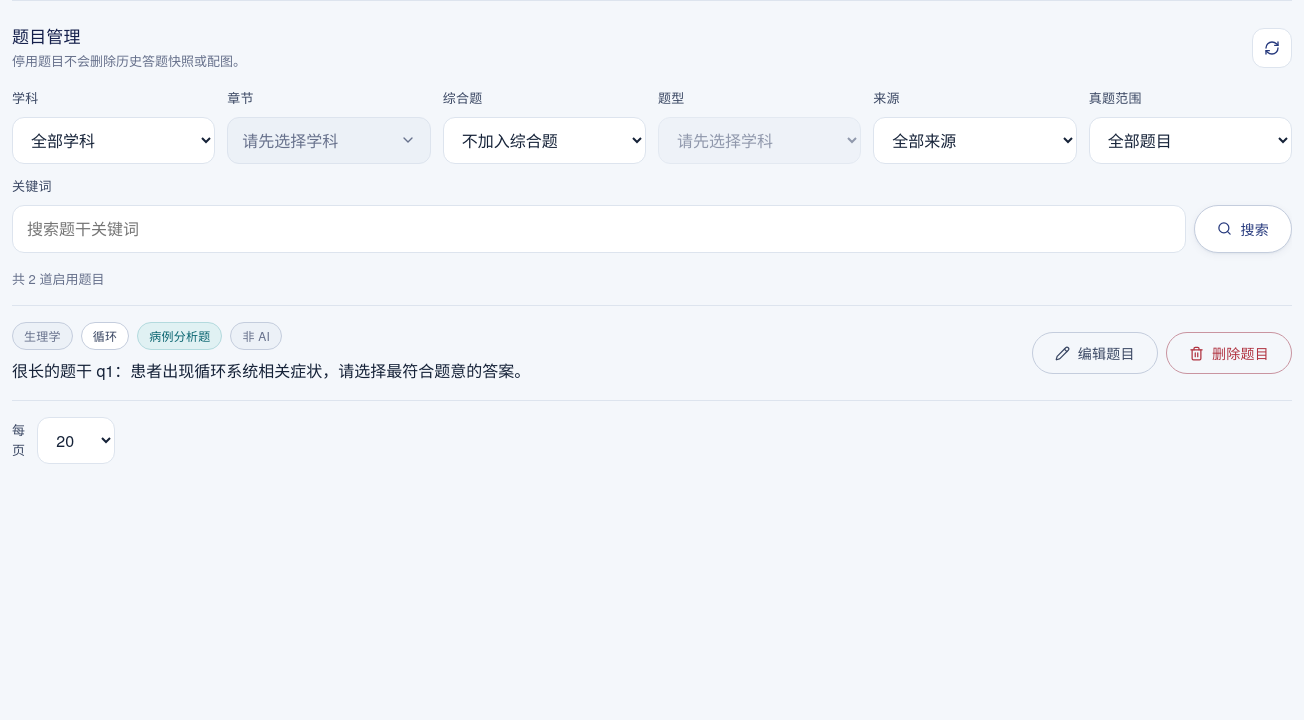
Test: AdminQuizManage › keeps the row and shows a retryable error: 网络连接失败
The width and height of the screenshot is (1304, 720).
Click the button with class "delete-button" at (1229, 353), box left=1166, top=332, right=1292, bottom=374
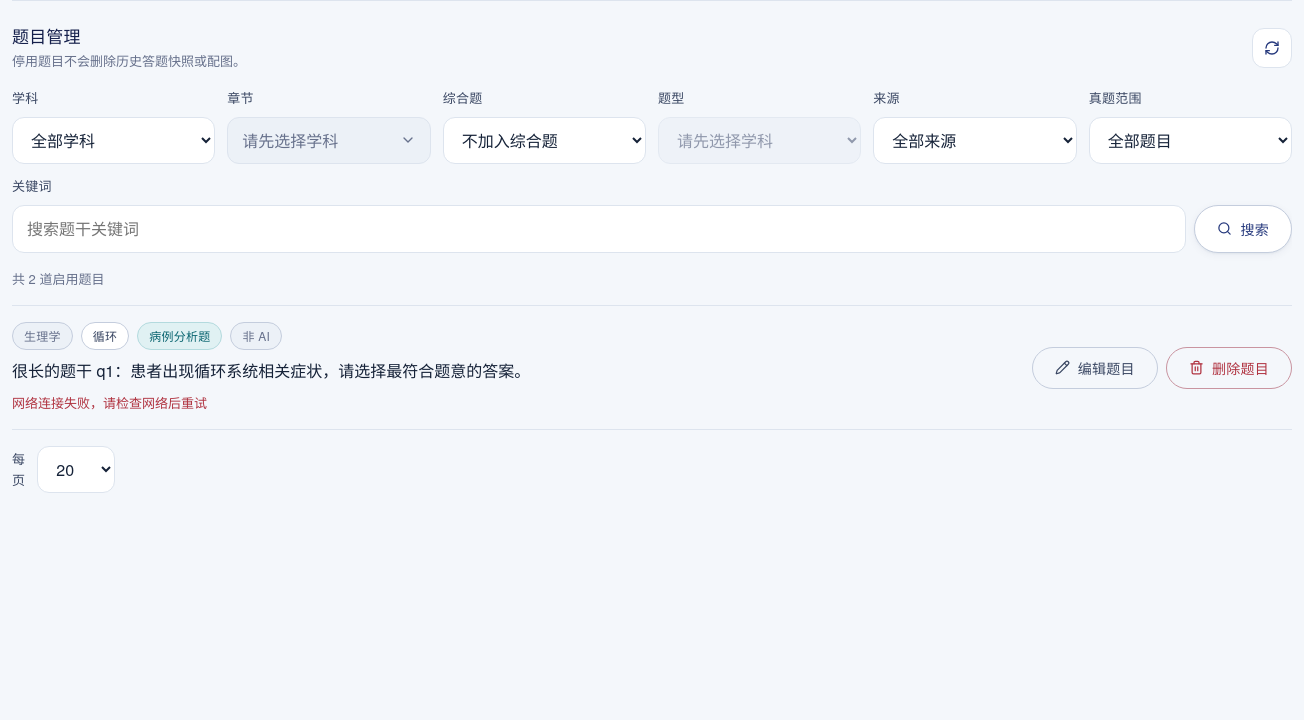
Expected: the text "很长的题干 q1" is shown, left=12, top=358, right=530, bottom=382
Expected: the text "网络连接失败" is shown, left=12, top=393, right=207, bottom=412
